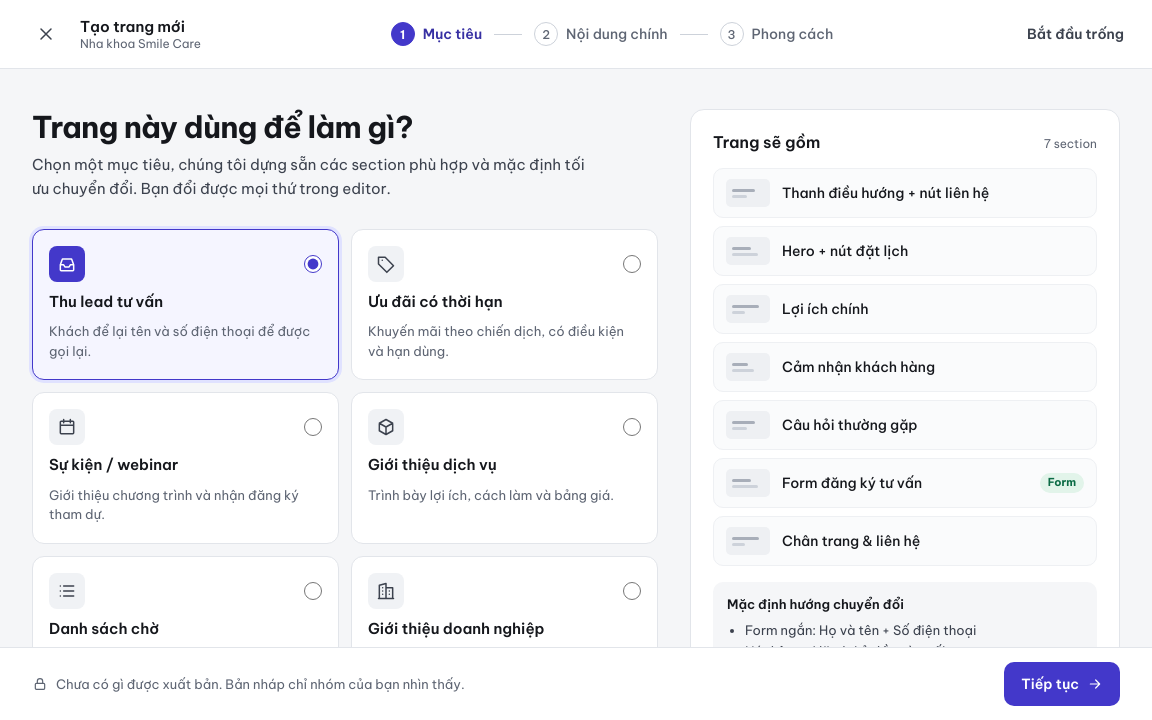
Test: CreatePageWizard › returns to the content step when the slug was taken meanwhile
Click the button "Tiếp tục".
click(1062, 684)  # box [1004, 662, 1120, 706]
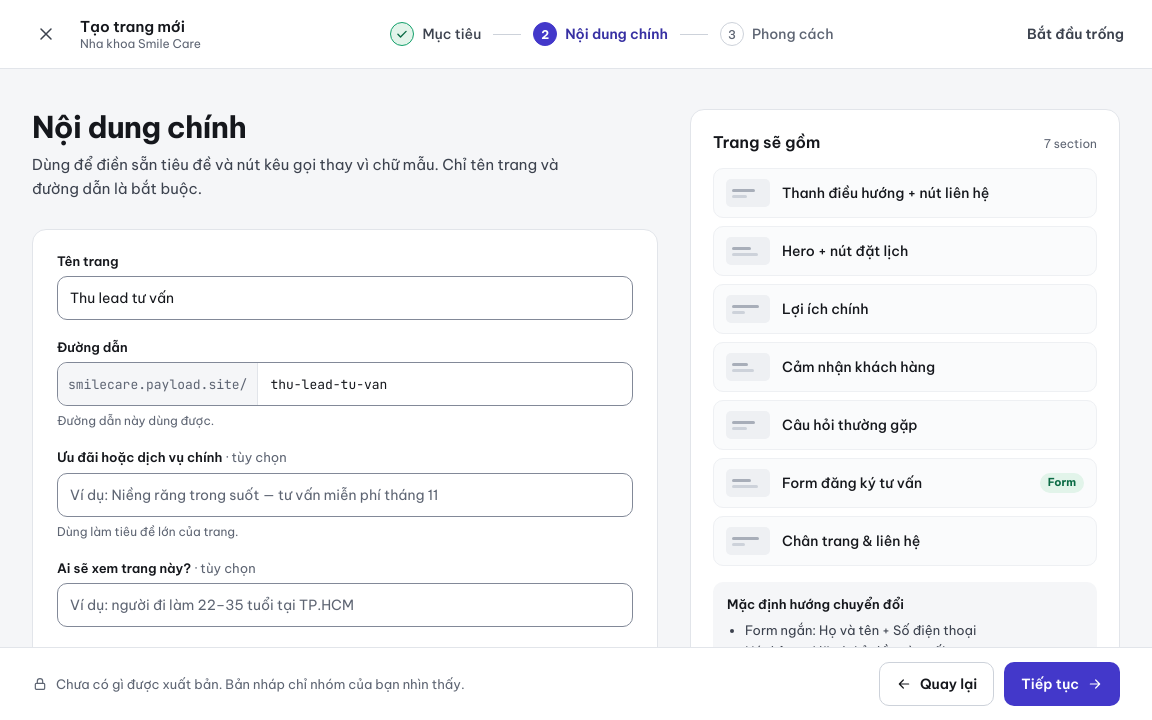
Now the text "Đường dẫn này dùng được." is shown, box [57, 413, 214, 428]
Click the button "Tiếp tục".
click(1062, 684)  # box [1004, 662, 1120, 706]
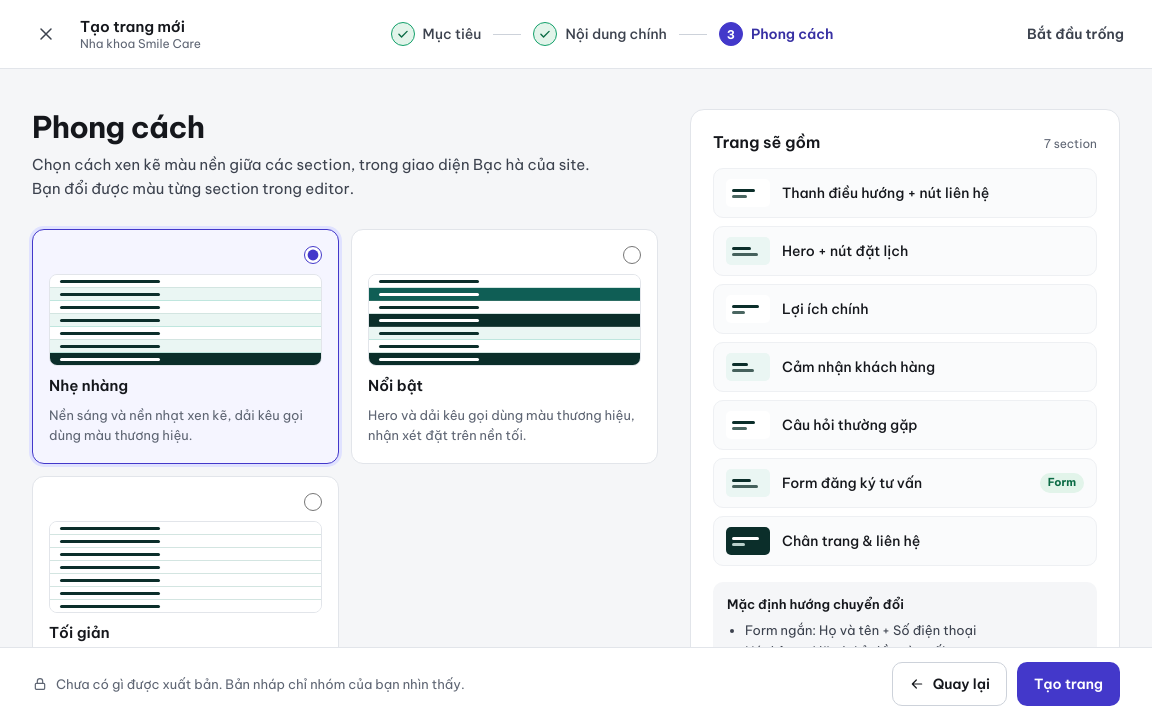
Click the button "Tạo trang".
click(1068, 684)  # box [1017, 662, 1120, 706]
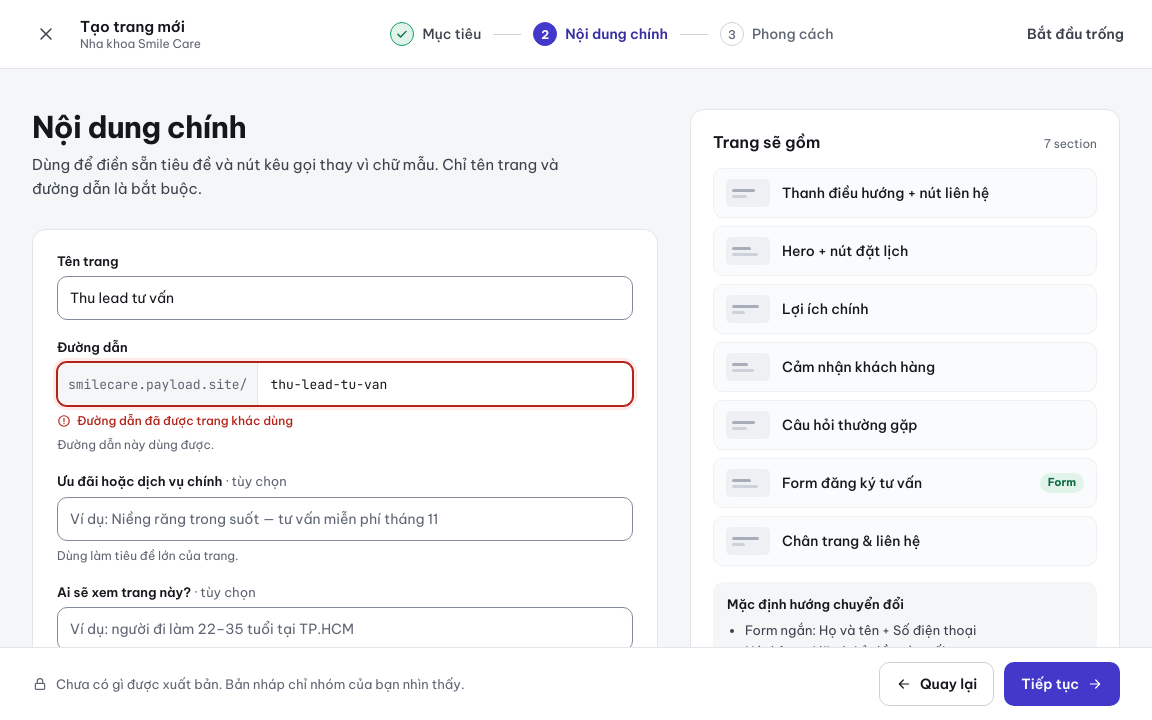
Now the text "Đường dẫn đã được trang khác dùng" is shown, box [77, 412, 293, 430]
Now the element showing "2 Nội dung chính" is shown, box [533, 22, 668, 46]
